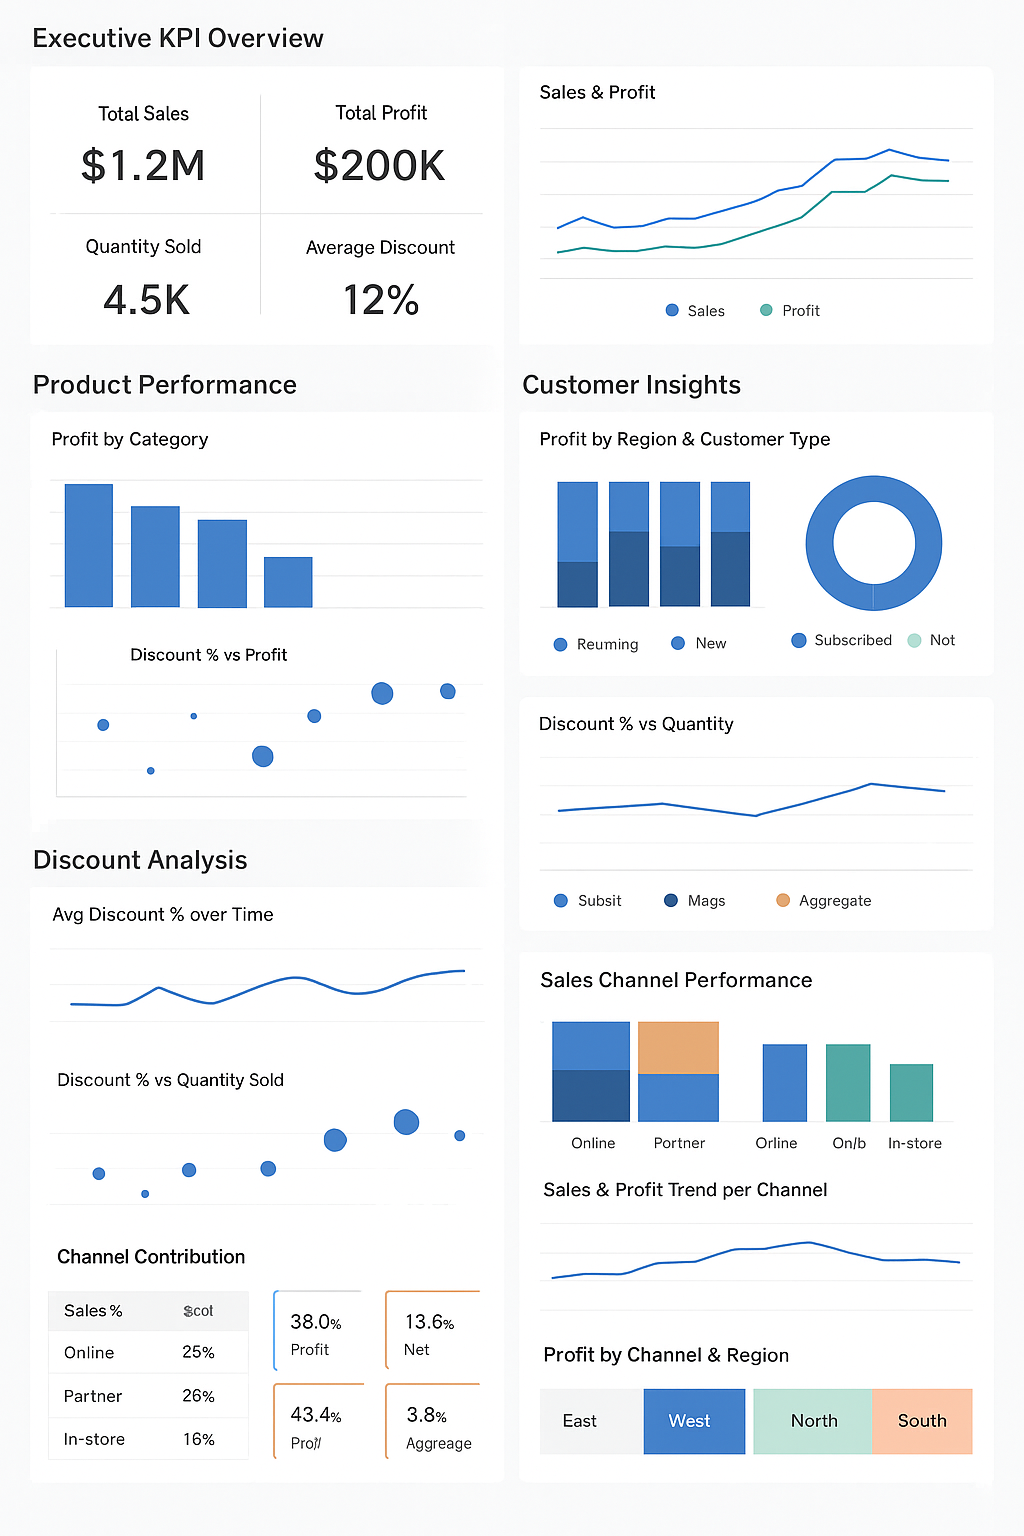

Layout of this report page (visuals, bound fields, positions):
{"tool":"powerbi","page":{"name":"Page 7","canvas":[1280,720],"ordinal":0},"visuals":[{"type":"card","fields":{"Values":["Measure_values.Total Sales"]},"box":[0,144.5,160.8,95.5],"z":0},{"type":"card","fields":{"Values":["Measure_values.Total Profit"]},"box":[160.8,163.3,184.7,99.2],"z":1000},{"type":"card","fields":{"Values":["Measure_values.Quantity Sold"]},"box":[0,47.7,160.8,93],"z":2000},{"type":"card","fields":{"Values":["Measure_values.Average Discount %"]},"box":[160.8,47.7,184.7,93],"z":3000},{"type":"lineChart","title":"Sales & Profit Over time","fields":{"Y":["Measure_values.Total Profit","Measure_values.Total Sales"],"Category":["Date.Quarter","Date.Year"]},"box":[345.4,32.7,667,229.9],"z":4000},{"type":"actionButton","box":[0,0,100,40],"z":5000},{"type":"donutChart","title":"Sales by Channel","fields":{"Category":["Sales.SalesChannel"],"Y":["Measure_values.Total Sales"]},"box":[1012.4,26.4,267.6,218.6],"z":6000},{"type":"clusteredColumnChart","title":"Profit by Category","fields":{"Category":["Products.Category"],"Y":["Measure_values.Total Profit"]},"box":[0,280.1,335.4,233.6],"z":7000},{"type":"clusteredColumnChart","title":"Profit by Region and CustomerType","fields":{"Category":["Customers.Region"],"Y":["Measure_values.Total Profit"],"Series":["Customers.CustomerType"]},"box":[643.1,276.3,334.1,261.3],"z":8000},{"type":"columnChart","title":"Sales channel Performance","fields":{"Y":["Measure_values.Total Sales","Measure_values.Total Profit"],"Category":["Sales.SalesChannel"]},"box":[335.4,272.6,306.5,262.5],"z":9000},{"type":"tableEx","title":"Channel Contribution","fields":{"Values":["Sales.SalesChannel","Measure_values.Total Sales","Measure_values.Total Profit","Measure_values.Profit Margin %"]},"box":[0,565.3,385.6,152],"z":10000},{"type":"treemap","title":"Profit by Channel & Region","fields":{"Group":["Sales.SalesChannel"],"Values":["Measure_values.Total Profit"],"Details":["Customers.Region"]},"box":[394.4,552.7,405.7,167.1],"z":11000},{"type":"scatterChart","title":"Discount % VS Profit","fields":{"X":["Sum(Sales.Discount)"],"Y":["Sum(Sales.Profit)"],"Series":["Products.Category"]},"box":[984.8,276.3,285.1,244.9],"z":12000},{"type":"lineChart","title":"Avg Discount % over time","fields":{"Y":["Measure_values.Average Discount %"],"Category":["Date.Quarter","Date.Year"]},"box":[800.2,552.7,479.8,167.1],"z":13000},{"type":"textbox","box":[0,0,1280,52.8],"z":13002}]}

Visuals, with their boxes on the page's 1280x720 design canvas (x1, y1, x2, y2). These are canvas units, not pixel positions in the 1024x1536 screenshot, which may show the page scaled, cropped or inside an application window:
card - Measure_values.Total Sales: <bbox>0, 144, 161, 240</bbox>
card - Measure_values.Total Profit: <bbox>161, 163, 346, 262</bbox>
card - Measure_values.Quantity Sold: <bbox>0, 48, 161, 141</bbox>
card - Measure_values.Average Discount %: <bbox>161, 48, 346, 141</bbox>
"Sales & Profit Over time" lineChart: <bbox>345, 33, 1012, 263</bbox>
actionButton: <bbox>0, 0, 100, 40</bbox>
"Sales by Channel" donutChart: <bbox>1012, 26, 1280, 245</bbox>
"Profit by Category" clusteredColumnChart: <bbox>0, 280, 335, 514</bbox>
"Profit by Region and CustomerType" clusteredColumnChart: <bbox>643, 276, 977, 538</bbox>
"Sales channel Performance" columnChart: <bbox>335, 273, 642, 535</bbox>
"Channel Contribution" tableEx: <bbox>0, 565, 386, 717</bbox>
"Profit by Channel & Region" treemap: <bbox>394, 553, 800, 720</bbox>
"Discount % VS Profit" scatterChart: <bbox>985, 276, 1270, 521</bbox>
"Avg Discount % over time" lineChart: <bbox>800, 553, 1280, 720</bbox>
textbox: <bbox>0, 0, 1280, 53</bbox>
